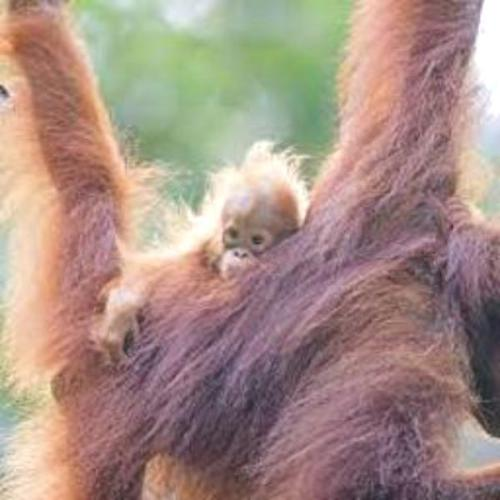orangutan-endangered: (8, 8, 481, 486), (89, 150, 308, 367)
